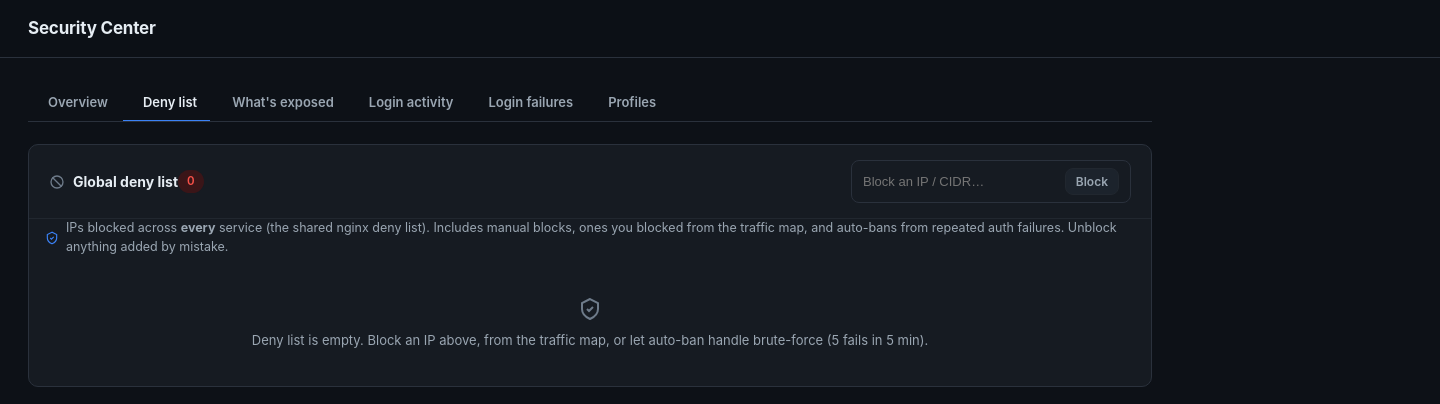
Test: SecurityCenter — deny list › blocks a single IP directly (Enter submits the form) and toasts success
The image size is (1440, 404).
Type "203.0.113.5" into the field named "IP address or CIDR range to block" at (960, 182), box 863,174 -> 1057,189
Then press Enter
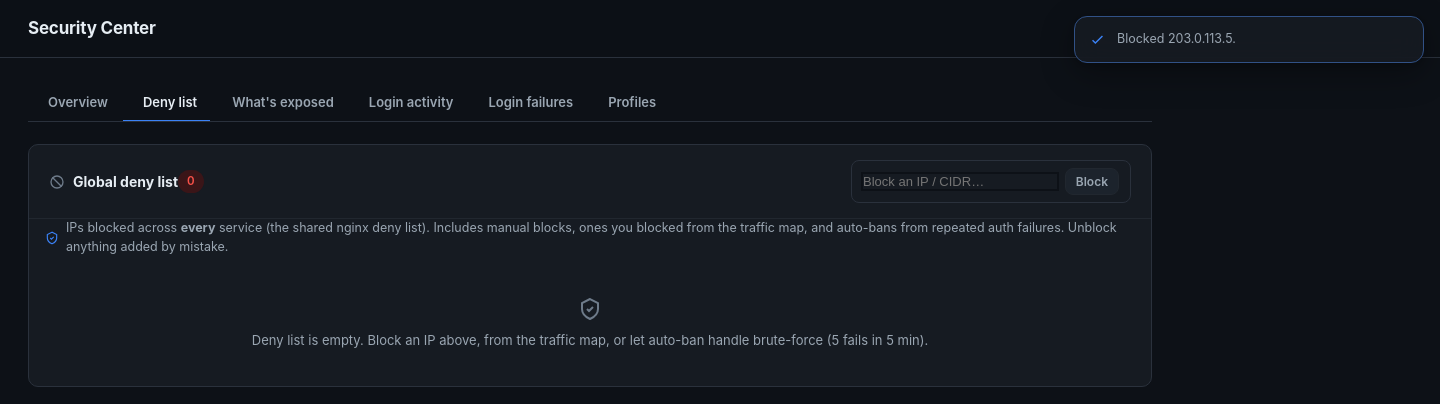
expect the text "Blocked 203.0.113.5." is shown: met, box 1117,31 -> 1236,46
